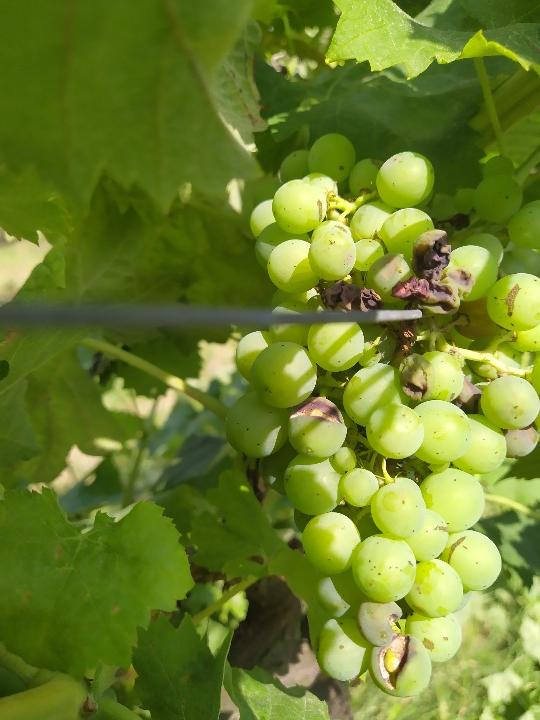grape: (221, 130, 537, 701)
